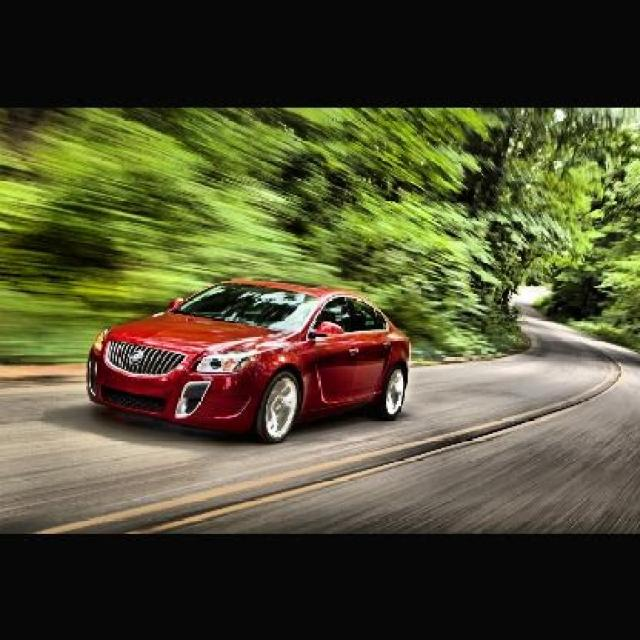red: (84, 240, 392, 436)
